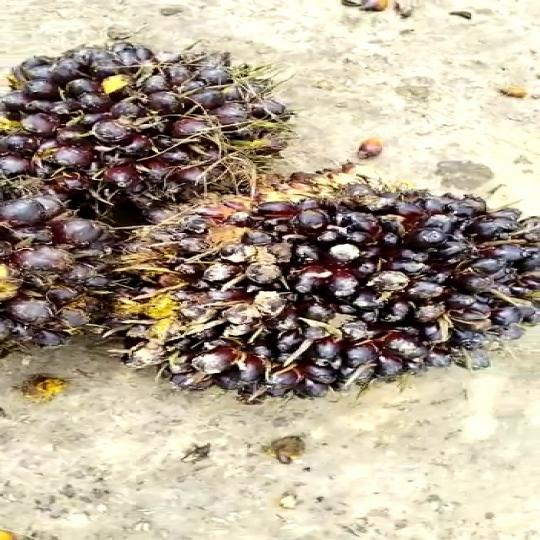mentah: (107, 170, 535, 401), (4, 38, 287, 206)
